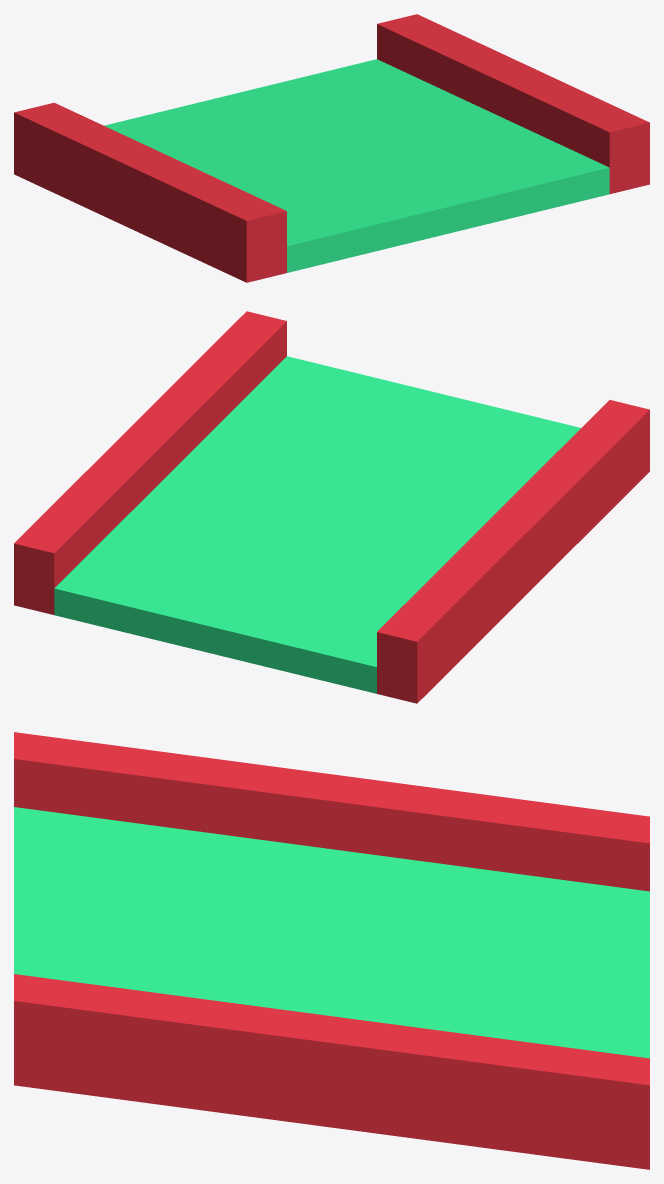
Rendered from rampA.fbx.
3 views of the same model, one above another, from view 1: azimuth 30°, elevation 25°; view 2: azimuth 150°, elevation 25°; view 3: azimuth 270°, elevation 25° (orthographic). The views are drawn at different scales.
Parts seen in each view (by area): view 1: rampA; view 2: rampA; view 3: rampA.
Part boxes in pixels (x1=…): rampA: x1=14, y1=14, x2=649, y2=282; rampA: x1=14, y1=311, x2=649, y2=703; rampA: x1=14, y1=732, x2=649, y2=1169.
Bounding box in the file's own units: 10 × 2.93 × 10.
